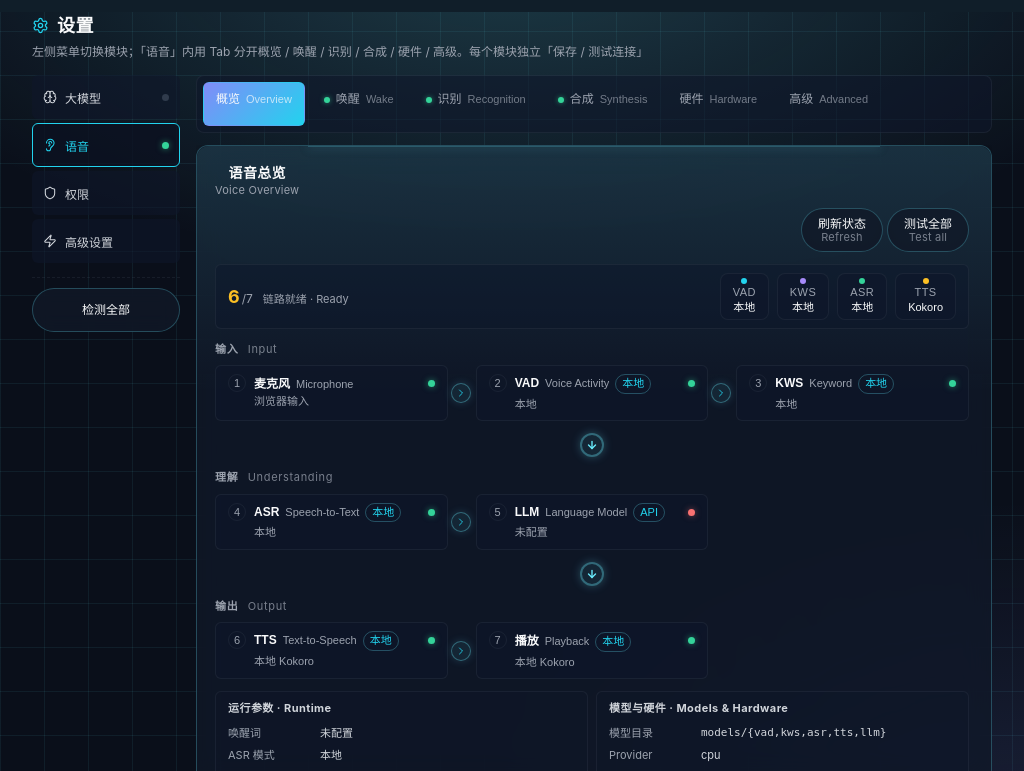
Test: ConsoleSettings 语音统一页 › 唤醒 Tab 显示唤醒词
Click the tab "唤醒 Wake" at (359, 104), box [311,82,407,126]
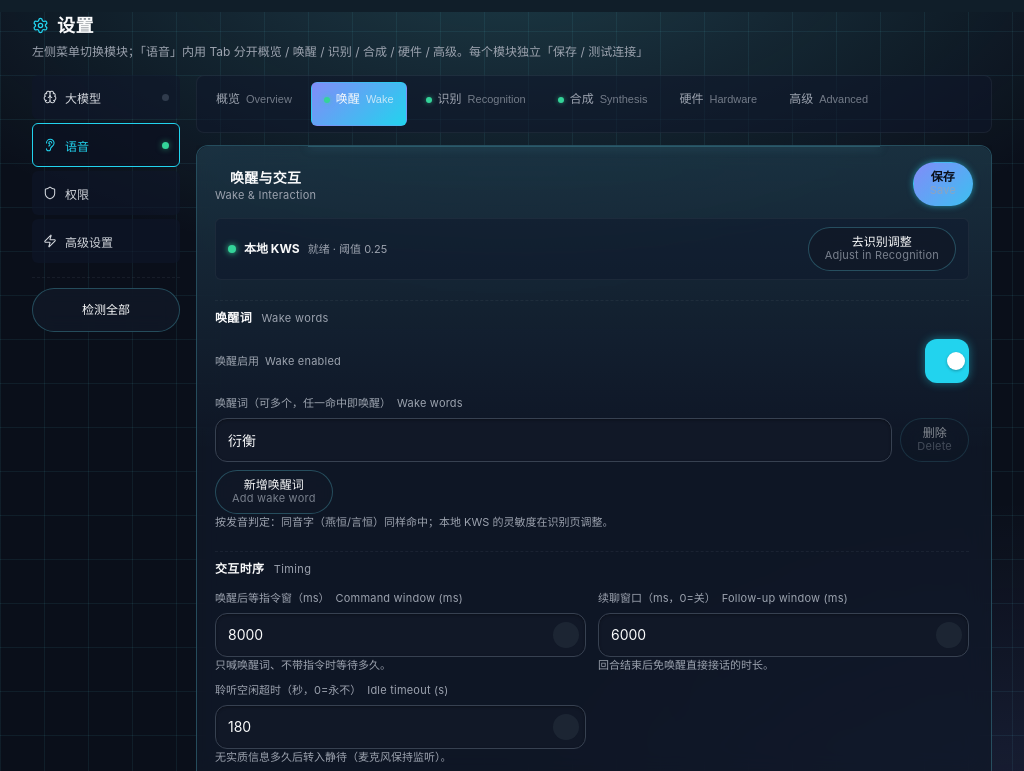
Expected: the text "唤醒词" is shown, [215,310,256,325]
Expected: the text "语音总览" is gone
